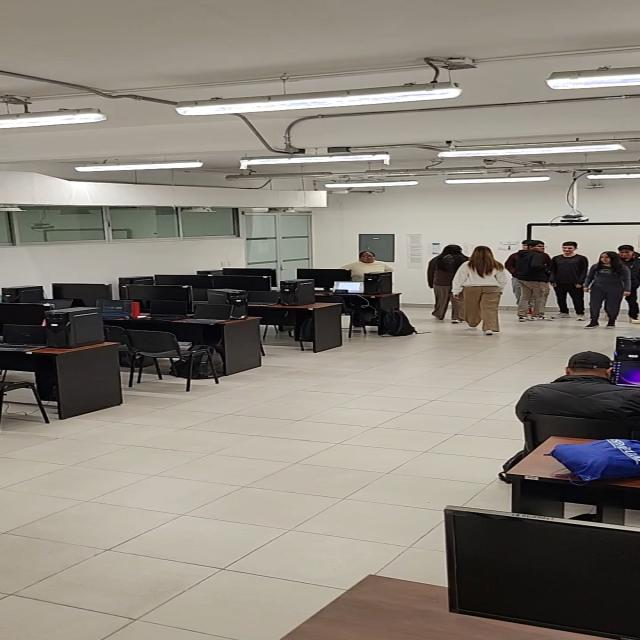Persona: (424, 244, 470, 322), (464, 248, 506, 330), (513, 240, 552, 323), (589, 251, 623, 324), (554, 238, 586, 314), (613, 240, 640, 294), (347, 252, 393, 270)
